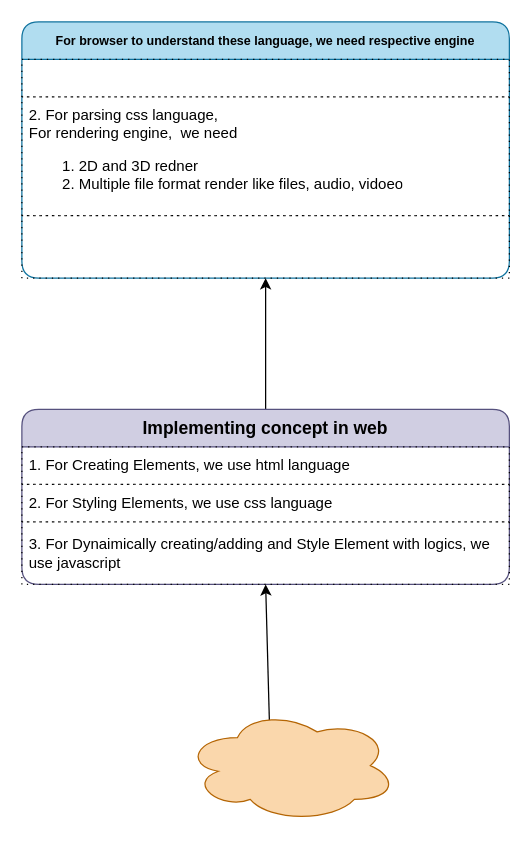
Image size: 531x844. Some labels were removed from this diagram. The centre of each missing label's shape, as x and y in pixels:
"1. For parsing html language" belongs at point 265,77.
"3. For executing javascript" belongs at point 265,246.
"Web Concepts" belongs at point 290,765.
